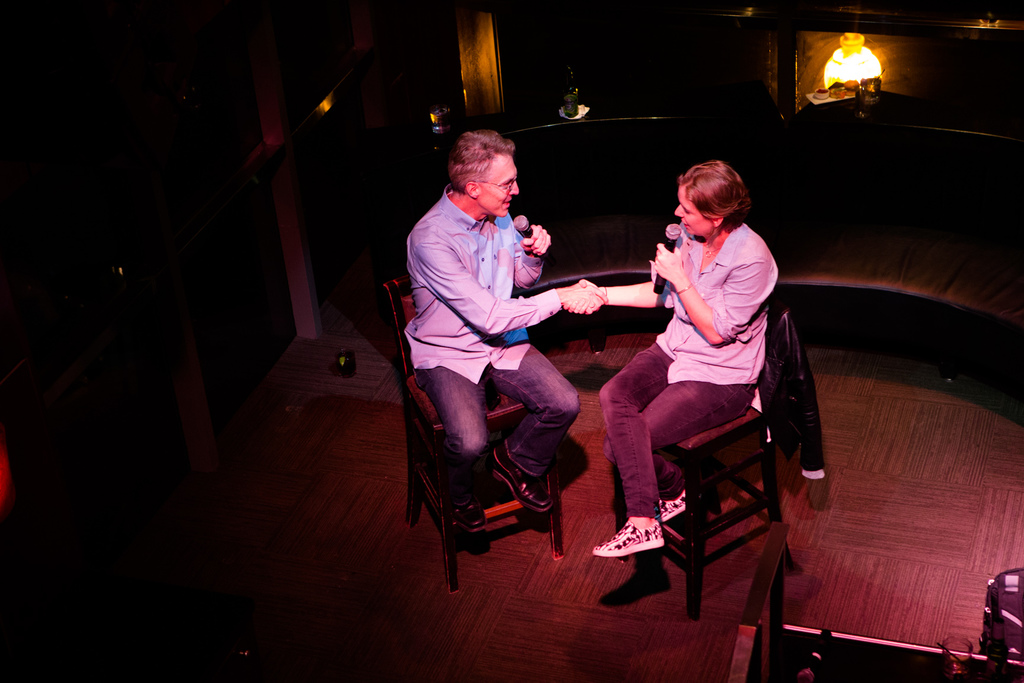Footwear: (483, 446, 557, 514), (590, 516, 664, 559), (452, 482, 486, 531), (650, 491, 687, 525)
